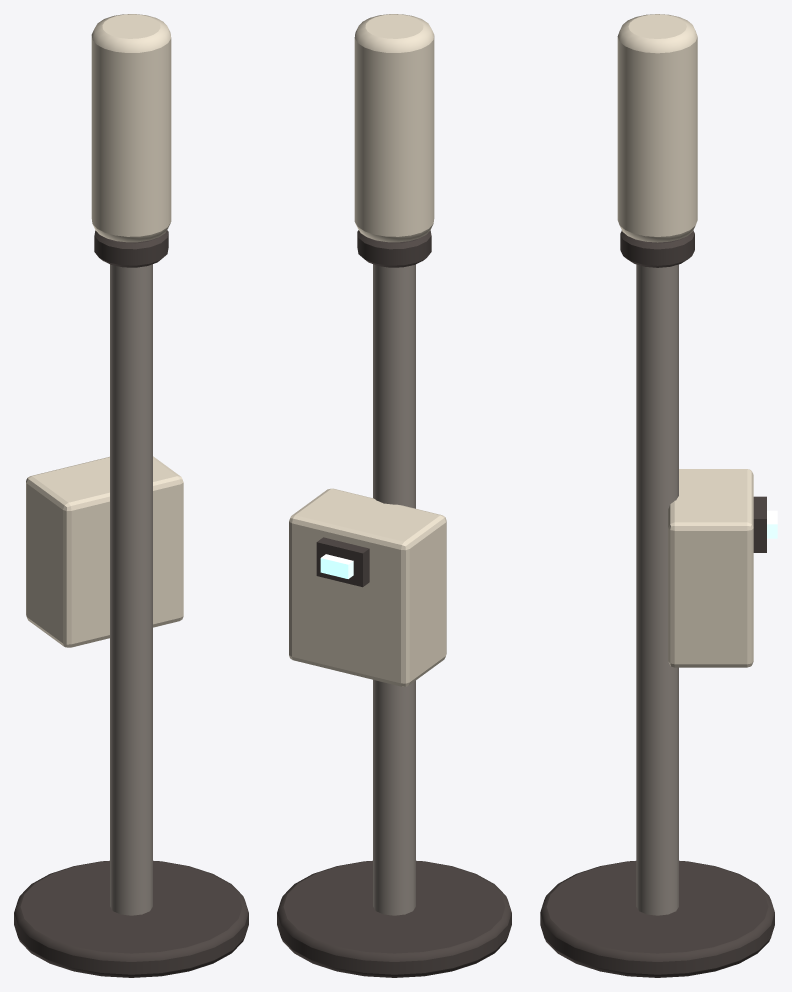
File: prop_relay_antenna.glb
The picture shows the model from 3 angles, left to right: view 1: azimuth 30°, elevation 25°; view 2: azimuth 150°, elevation 25°; view 3: azimuth 270°, elevation 25°; orthographic projection.
Parts seen in each view (by area): view 1: detail-col, post-convcol; view 2: detail-col, post-convcol; view 3: detail-col, post-convcol.
Boxes of the visible parts, x1,y1,x2,y2 form: detail-col: [14, 14, 248, 977]; post-convcol: [110, 264, 152, 915]; detail-col: [277, 14, 511, 977]; post-convcol: [373, 264, 415, 915]; detail-col: [540, 14, 777, 977]; post-convcol: [636, 264, 678, 915].
Size of the model in its own units: 0.44 by 1.87 by 0.445.
